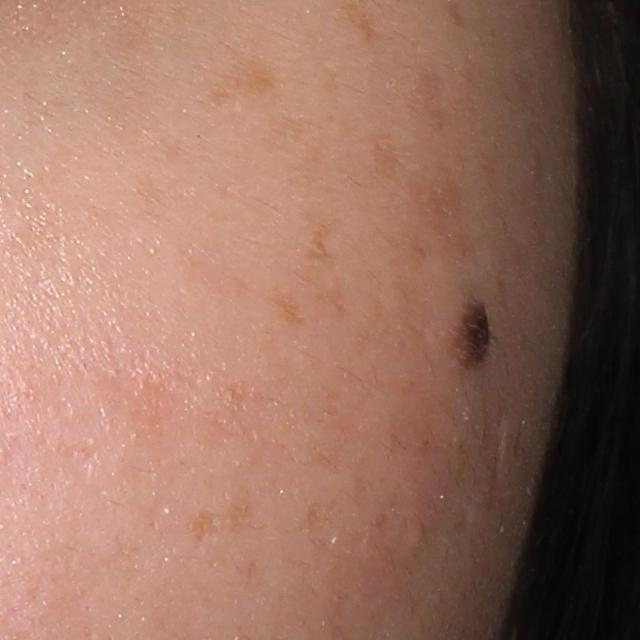melasma: (198, 50, 287, 111), (176, 493, 263, 548), (405, 67, 449, 139), (363, 128, 406, 187), (306, 269, 353, 322), (262, 286, 310, 332), (301, 220, 337, 266)
nevus: (445, 295, 495, 377)
